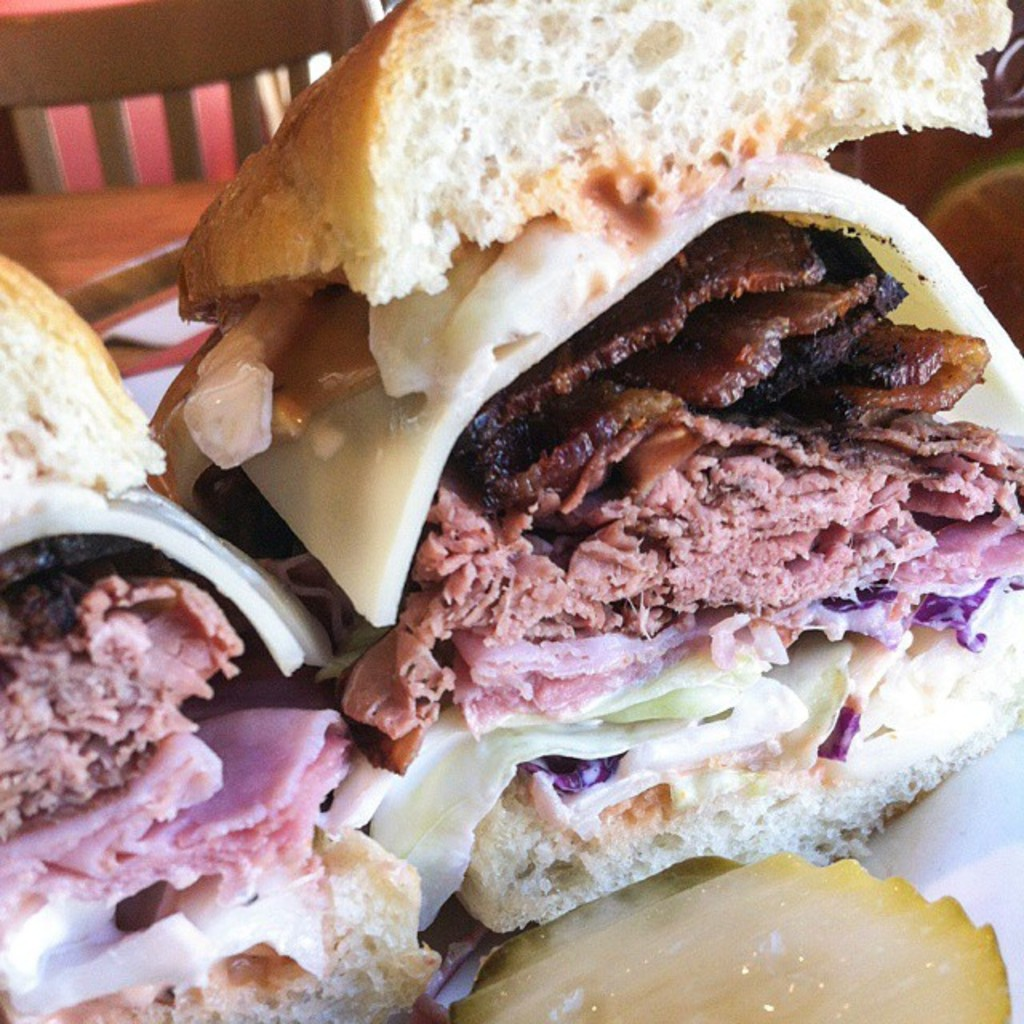Hamburger: (152, 0, 1022, 935), (0, 254, 446, 1022)
